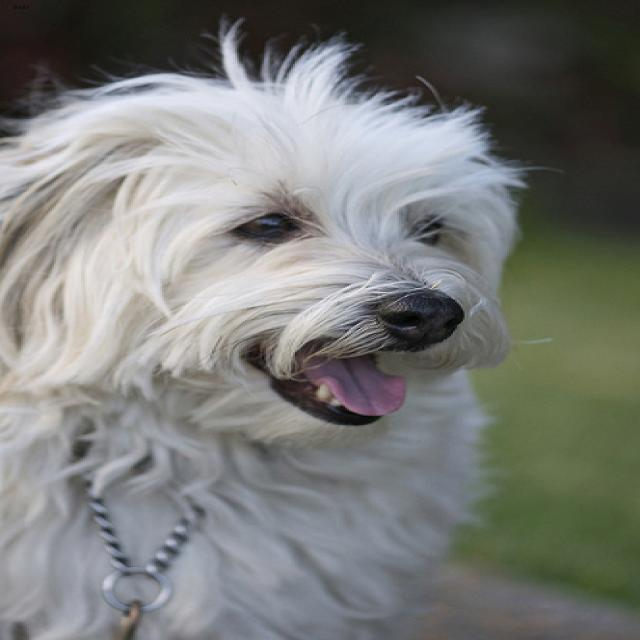dog-havanese: (2, 3, 571, 637)
